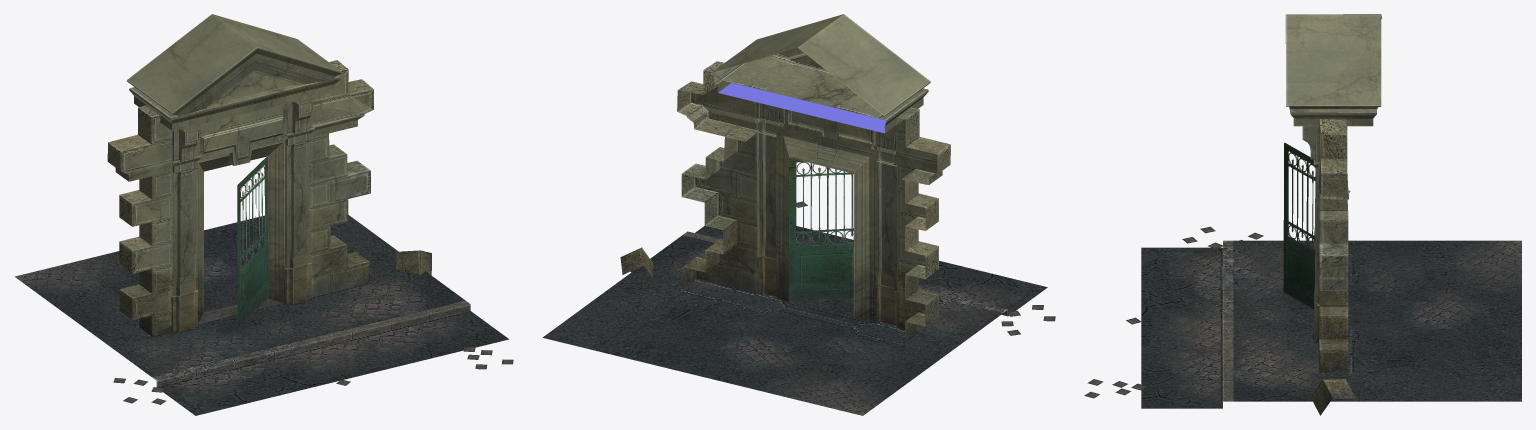
Rendered from opera_gate.obj.
3 renders of one model, left to right at view 1: azimuth 30°, elevation 25°; view 2: azimuth 150°, elevation 25°; view 3: azimuth 270°, elevation 25°, orthographic. The views are drawn at different scales.
Size of the model in its own units: 39.36 by 29.66 by 38.67.
Materials: 3 (3 with a texture image).
